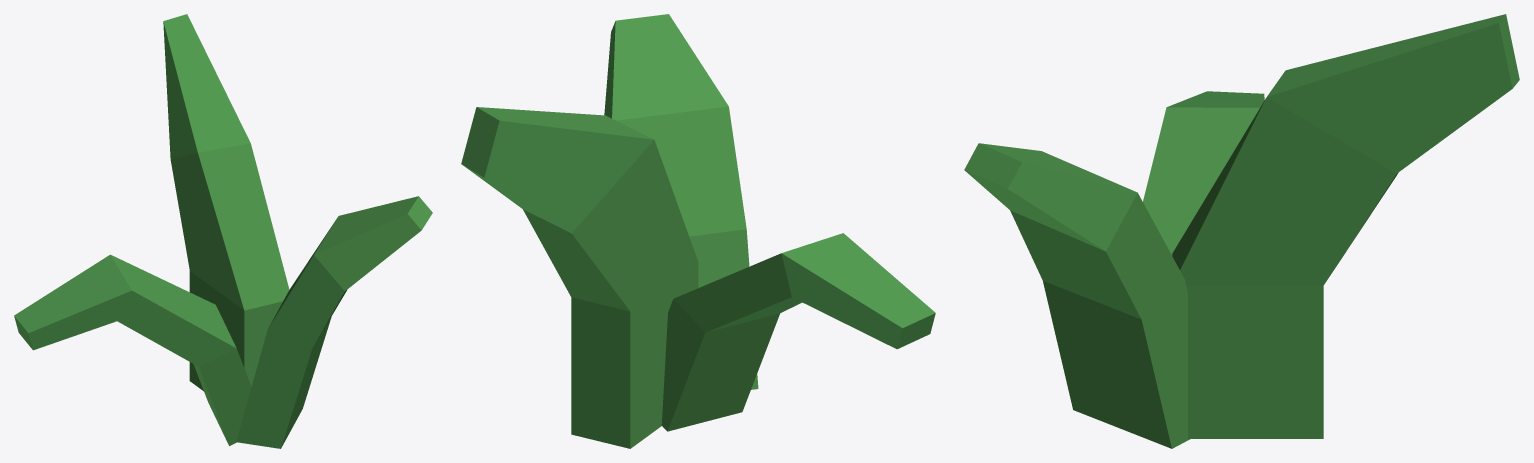
Rendered from Grass_1.fbx.
3 views of the same model, side by side, from view 1: azimuth 30°, elevation 25°; view 2: azimuth 150°, elevation 25°; view 3: azimuth 270°, elevation 25° (orthographic). The views are drawn at different scales.
Visible parts, largest first — view 1: Cube; view 2: Cube; view 3: Cube.
Boxes of the visible parts, left/top/right/bottom form: Cube: left=14, top=14, right=432, bottom=448; Cube: left=461, top=14, right=935, bottom=448; Cube: left=964, top=14, right=1519, bottom=448.
Size of the model in its own units: 43.93 by 40.1 by 45.81.
